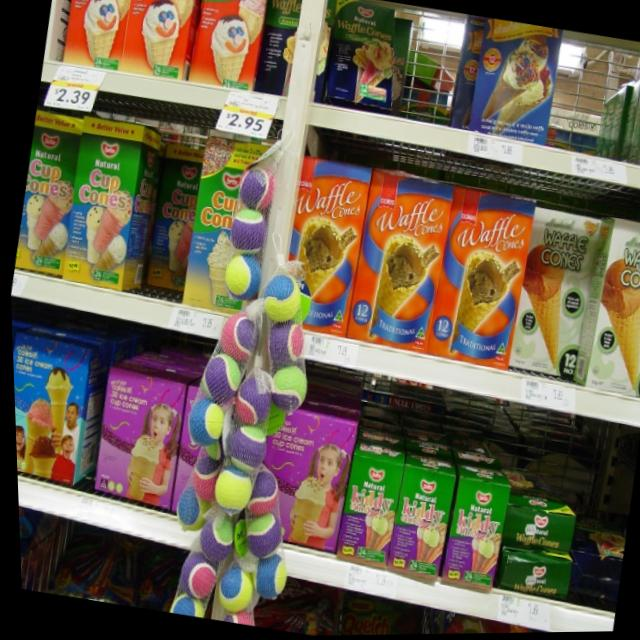q106: (421, 179, 540, 375), (339, 164, 458, 350), (275, 148, 376, 343)
